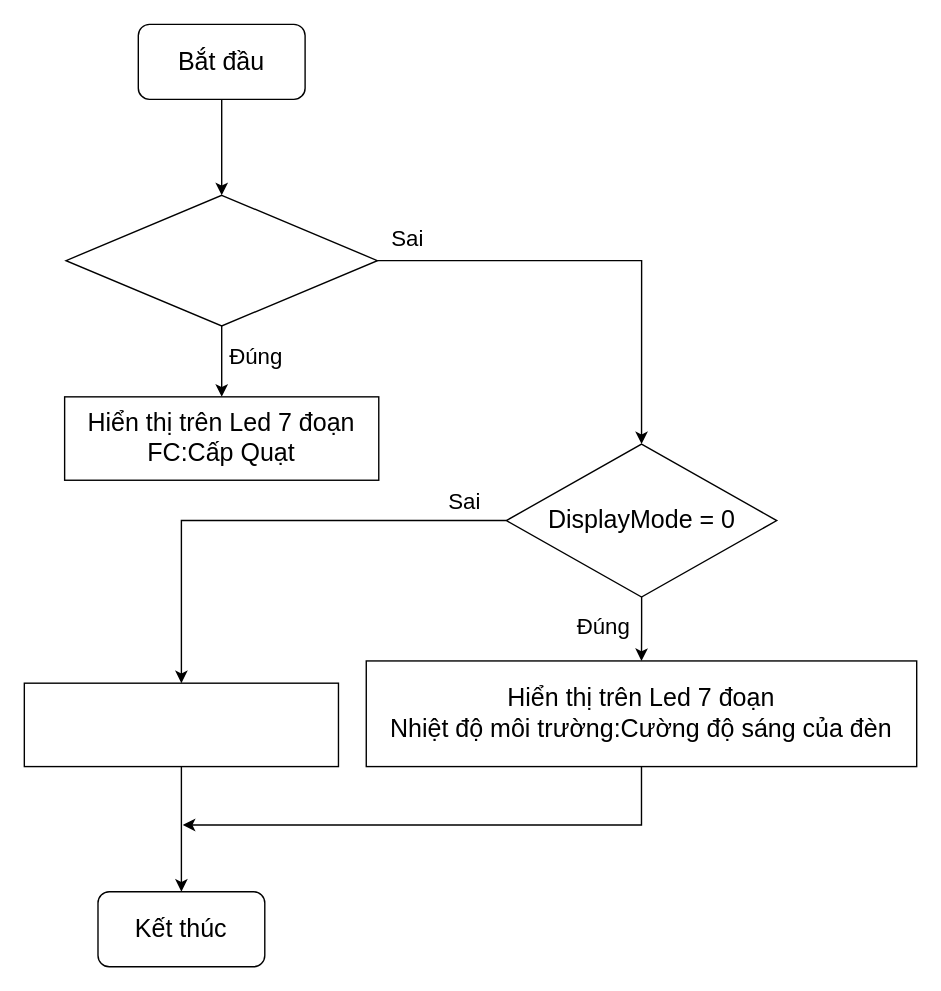
Image size: 941x991. Some labels were removed from this diagram. Each missing label, with the centre of its shape:
Chế độ thủ công bật: [221,260]
Hiển thị trên Led 7 đoạn Temp2:Temp3: [180,724]
